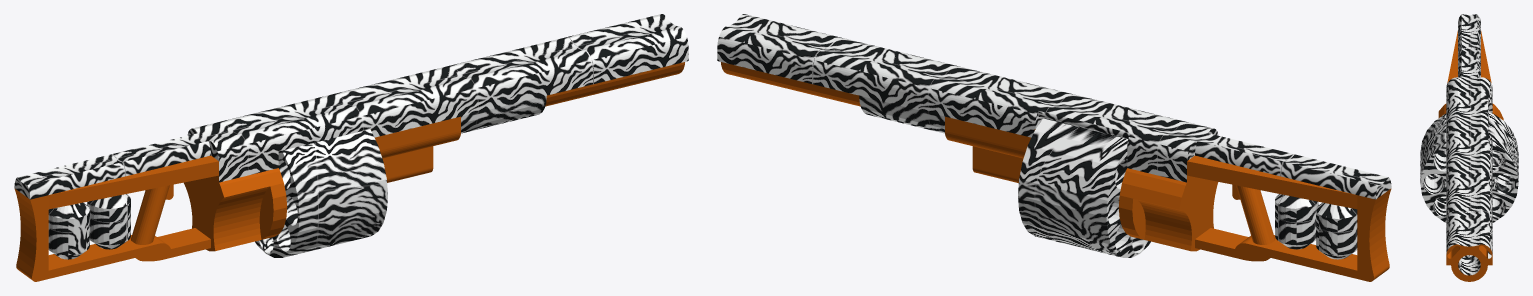
The model's file is Lanzagranadas_zebra.FBX.
3 views of the same model, side by side, from view 1: azimuth 30°, elevation 25°; view 2: azimuth 150°, elevation 25°; view 3: azimuth 270°, elevation 25° (orthographic). The views are drawn at different scales.
Parts seen in each view (by area): view 1: Skin, Group1, Cargador, Etiqueta; view 2: Skin, Group1, Cargador; view 3: Skin, Cargador, Group1.
Part boxes in pixels (x1=…): Skin: x1=14, y1=14, x2=688, y2=259; Group1: x1=14, y1=62, x2=684, y2=281; Cargador: x1=255, y1=129, x2=387, y2=257; Etiqueta: x1=48, y1=161, x2=218, y2=209; Skin: x1=717, y1=14, x2=1391, y2=259; Group1: x1=721, y1=62, x2=1391, y2=281; Cargador: x1=1018, y1=118, x2=1150, y2=257; Skin: x1=1446, y1=14, x2=1492, y2=275; Cargador: x1=1420, y1=112, x2=1518, y2=222; Group1: x1=1438, y1=31, x2=1503, y2=281.
Size of the model in its own units: 8.05 by 1.58 by 1.44.
Materials: 2 (1 with a texture image).
